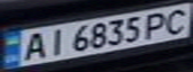3: (106, 17, 127, 47)
5: (121, 14, 148, 43)
6: (69, 23, 93, 53)
8: (87, 20, 112, 50)
A: (15, 29, 51, 62)
C: (157, 6, 193, 35)
I: (39, 26, 69, 56)
P: (139, 10, 175, 39)
